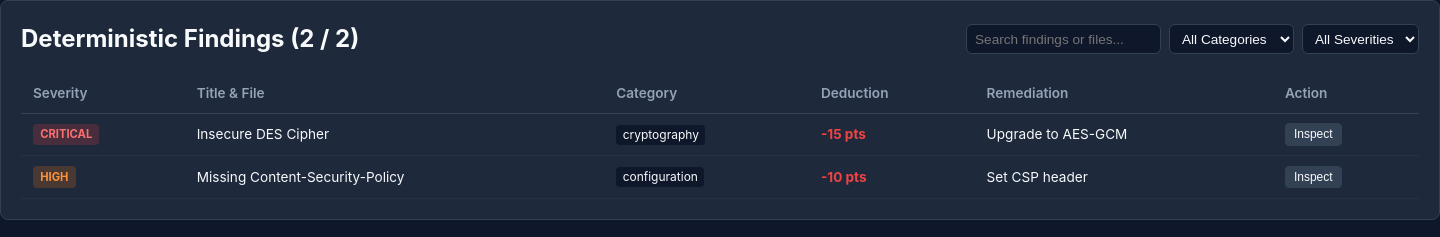
Scenario: FindingsTable Component › filters findings by search keyword
The width and height of the screenshot is (1440, 237).
Type "DES" into the field with placeholder "Search findings or files...". click: (1064, 39)
box: 966,24 -> 1161,54
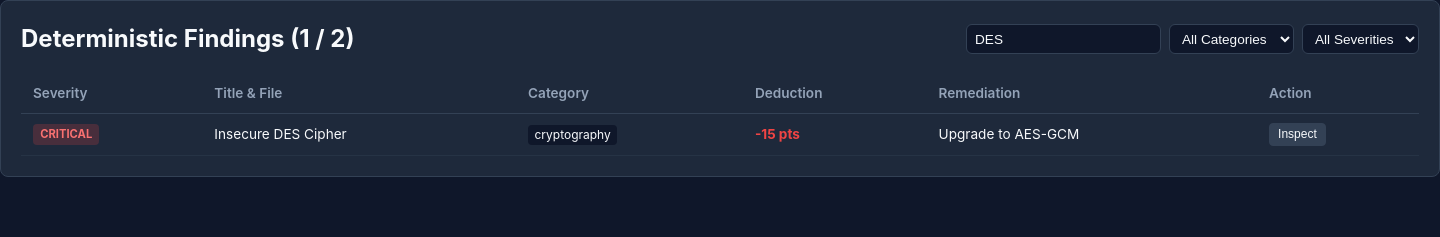
Check: the text "Insecure DES Cipher" is shown, box 214,126 -> 347,142
Check: the text "Missing Content-Security-Policy" is gone
